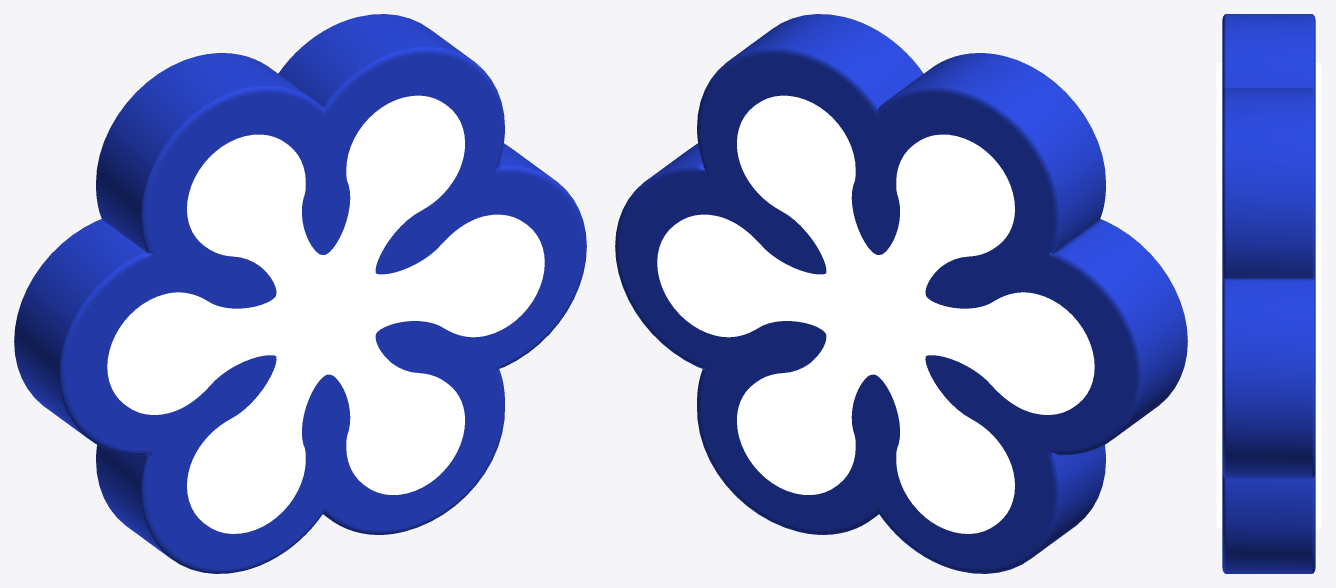
File: SYMBOLGLB.glb
3 views of the same model, side by side, from view 1: azimuth 30°, elevation 25°; view 2: azimuth 150°, elevation 25°; view 3: azimuth 270°, elevation 25° (orthographic). The views are drawn at different scales.
Visible parts, largest first — view 1: flor2, flor1; view 2: flor2, flor1; view 3: flor2, flor1.
Part boxes in pixels (left/top/right/bottom): flor2: left=14, top=14, right=586, bottom=573; flor1: left=107, top=95, right=544, bottom=533; flor2: left=615, top=14, right=1187, bottom=573; flor1: left=657, top=95, right=1094, bottom=533; flor2: left=1222, top=14, right=1315, bottom=573; flor1: left=1216, top=63, right=1321, bottom=528.
Bounding box in the file's own units: 0.5215 × 0.4554 × 0.0937.
